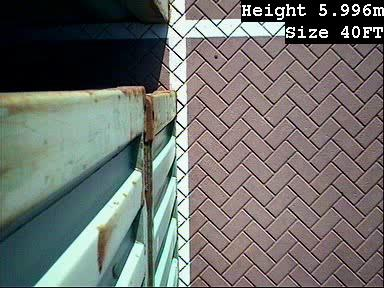groundmarker_2: (156, 1, 243, 87)
